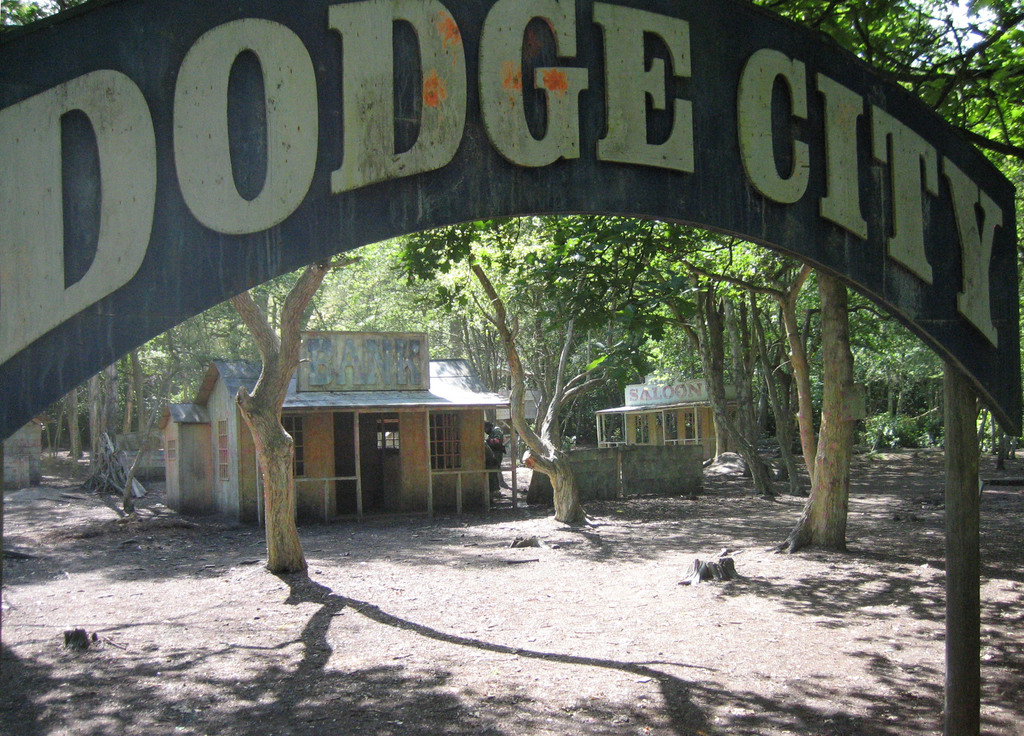Tree: (45, 0, 1023, 588), (680, 0, 1023, 548), (412, 212, 725, 531), (661, 242, 814, 498), (339, 224, 504, 428), (522, 208, 651, 445), (609, 212, 711, 438), (784, 293, 912, 438), (306, 245, 415, 379), (51, 361, 139, 522), (846, 314, 945, 434)
